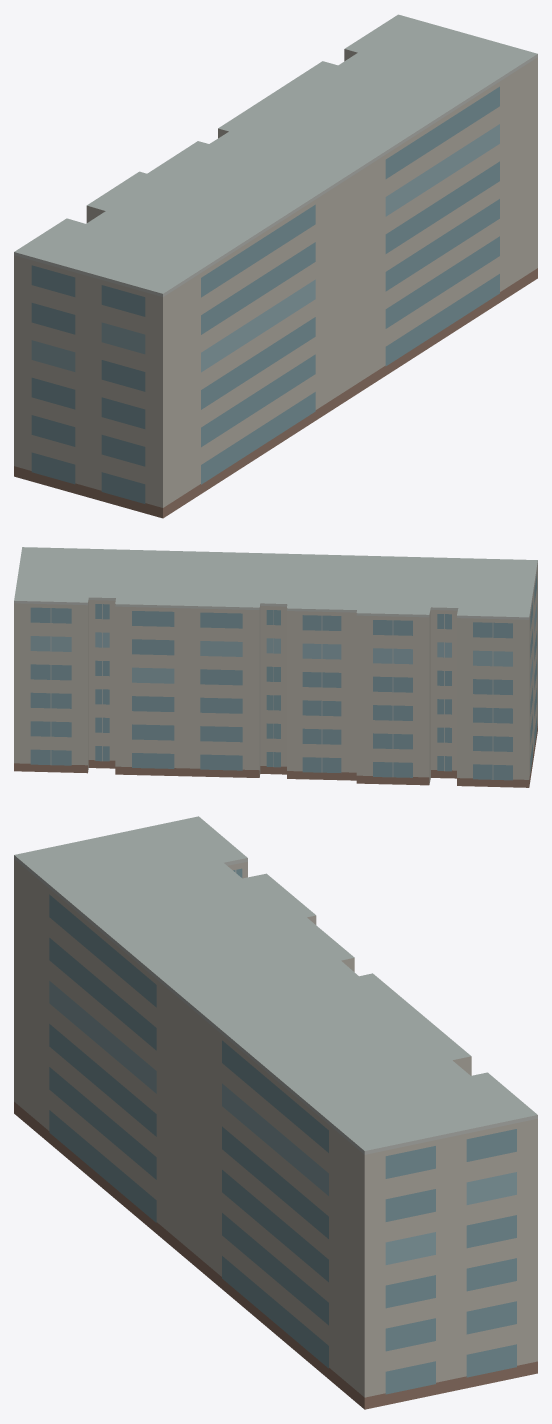
Rendered from survey-upis-32707550.glb.
3 renders of one model, top to bottom at view 1: azimuth 30°, elevation 25°; view 2: azimuth 150°, elevation 25°; view 3: azimuth 270°, elevation 25°, orthographic. The views are drawn at different scales.
Visible parts, largest first — view 1: survey-upis-32707550.tmp; view 2: survey-upis-32707550.tmp; view 3: survey-upis-32707550.tmp.
Part boxes in pixels (bbox=[...]): survey-upis-32707550.tmp: bbox=[14, 14, 537, 518]; survey-upis-32707550.tmp: bbox=[14, 547, 537, 787]; survey-upis-32707550.tmp: bbox=[14, 816, 537, 1409].
Size of the model in its own units: 45.83 by 16.5 by 30.31.
